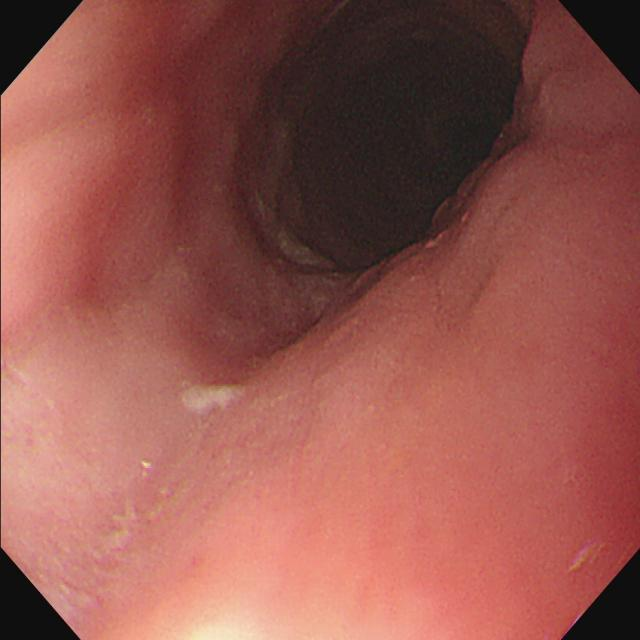E: (216, 2, 549, 293)
J: (179, 383, 253, 412)
